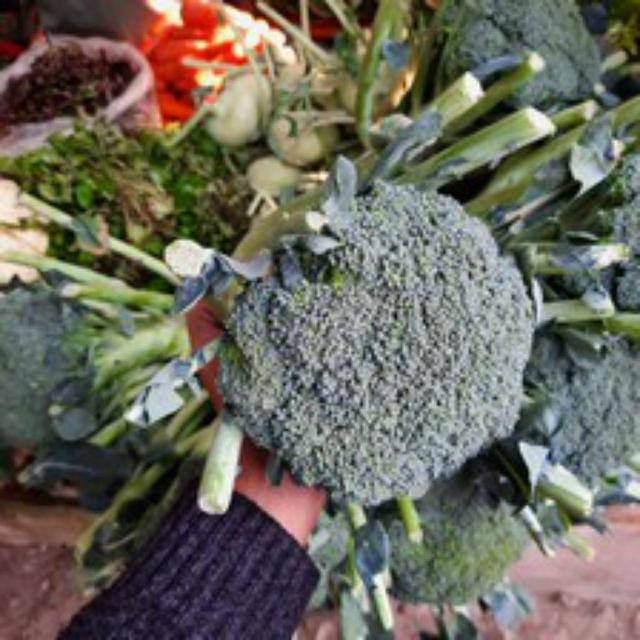broccoli: (215, 176, 526, 508)
